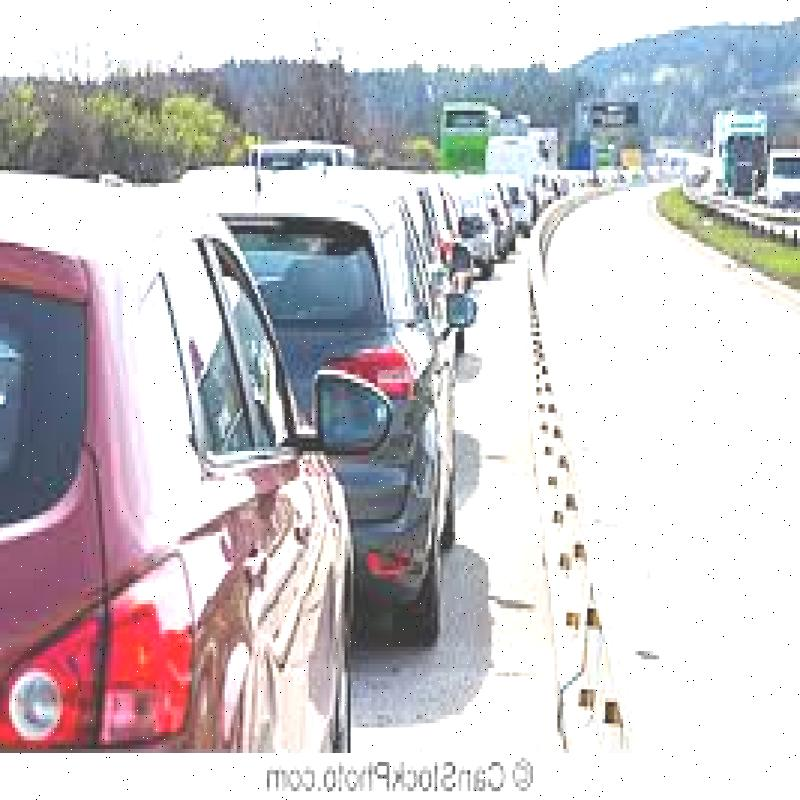car: (4, 195, 339, 800), (226, 183, 442, 632), (451, 160, 508, 249)
